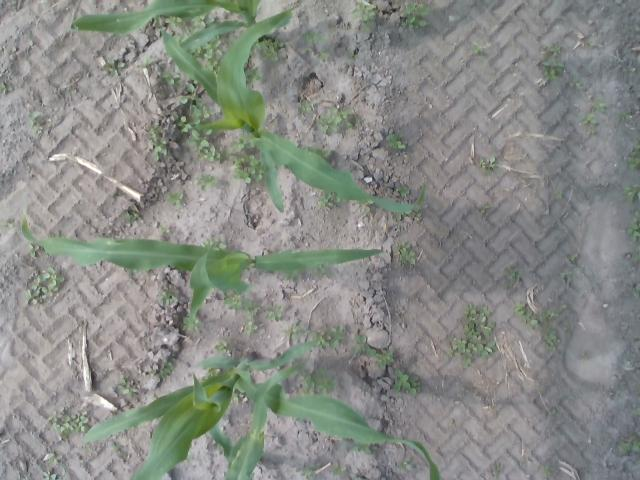Maize: (157, 2, 426, 213), (82, 340, 440, 480), (21, 216, 386, 331), (213, 359, 306, 480), (71, 0, 270, 44)
Weeds: (448, 302, 496, 369), (515, 300, 573, 350), (174, 110, 223, 163), (22, 264, 66, 310), (352, 333, 395, 370), (223, 294, 261, 334), (180, 82, 218, 120), (49, 407, 90, 438), (225, 150, 262, 184), (317, 106, 363, 132), (536, 42, 566, 81), (302, 366, 341, 394), (580, 100, 606, 136), (350, 1, 378, 34), (147, 124, 171, 162), (392, 367, 422, 397), (142, 358, 178, 382), (314, 325, 344, 351), (402, 2, 431, 28), (257, 38, 287, 63), (159, 64, 184, 88), (156, 288, 183, 310), (283, 322, 310, 342), (625, 210, 640, 244), (396, 242, 416, 267), (477, 157, 503, 176), (617, 434, 640, 455), (30, 110, 48, 136), (302, 27, 326, 46), (102, 58, 126, 77), (196, 172, 218, 192), (264, 304, 286, 324), (115, 377, 140, 394), (123, 204, 144, 224), (626, 142, 640, 171), (230, 131, 251, 150), (304, 47, 332, 61), (296, 463, 318, 480), (318, 192, 340, 208), (201, 236, 228, 249), (388, 131, 406, 150), (181, 314, 200, 332), (623, 182, 639, 203), (207, 39, 223, 59), (165, 16, 187, 30), (348, 442, 373, 454), (504, 266, 519, 286), (246, 66, 262, 84), (331, 461, 349, 477), (191, 16, 214, 28), (308, 146, 330, 158), (297, 100, 313, 116), (0, 218, 16, 234), (0, 78, 14, 96), (213, 340, 230, 354), (570, 76, 585, 91), (138, 56, 154, 70), (66, 81, 80, 97), (492, 462, 504, 480), (168, 192, 183, 206), (48, 450, 62, 464), (562, 270, 576, 284), (394, 183, 409, 196), (27, 244, 40, 259), (397, 458, 412, 471), (284, 270, 300, 282), (396, 211, 415, 221), (479, 202, 492, 216), (618, 109, 632, 122), (110, 440, 123, 454), (361, 200, 373, 213), (552, 190, 566, 201), (205, 60, 219, 71), (543, 462, 554, 476), (42, 471, 59, 480), (344, 50, 356, 62), (314, 266, 328, 276), (194, 46, 205, 58), (519, 457, 531, 468), (584, 38, 597, 48), (474, 42, 484, 54), (160, 222, 172, 232), (568, 252, 580, 262), (633, 282, 640, 298), (448, 417, 458, 428), (634, 245, 640, 262), (414, 212, 424, 222), (84, 442, 92, 454), (632, 406, 640, 417), (550, 408, 560, 416)
